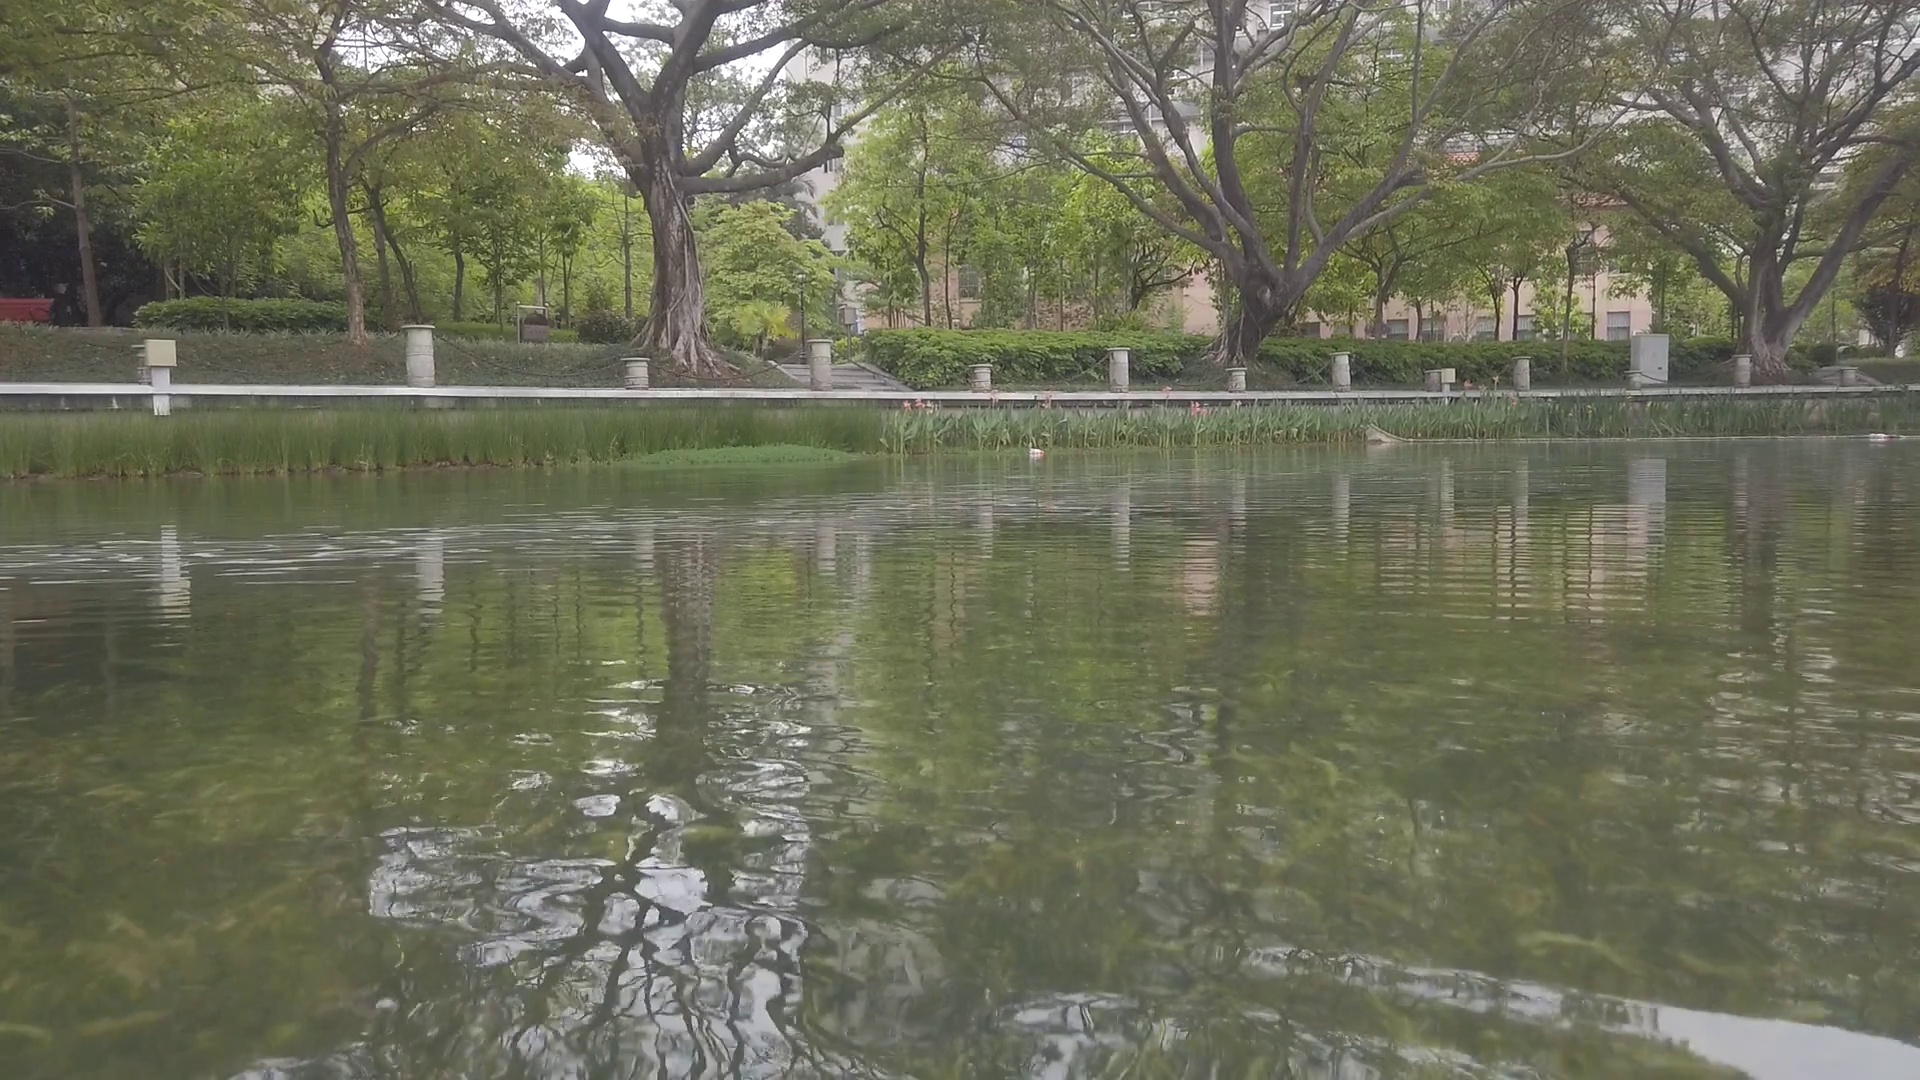bottle: (1870, 433, 1891, 440), (1030, 447, 1046, 456)
